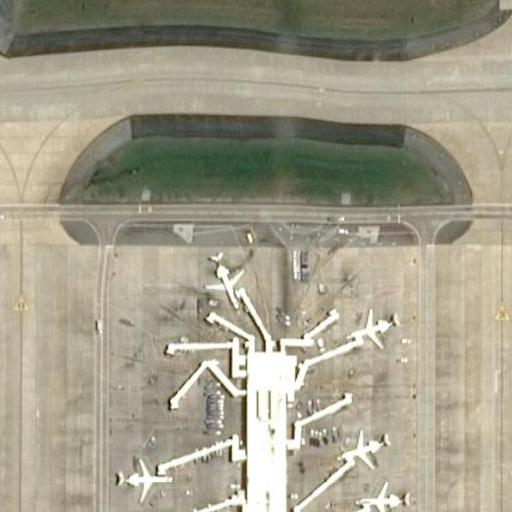Aircraft: (107, 450, 170, 503), (333, 419, 393, 470), (347, 306, 405, 352), (354, 474, 410, 512)
